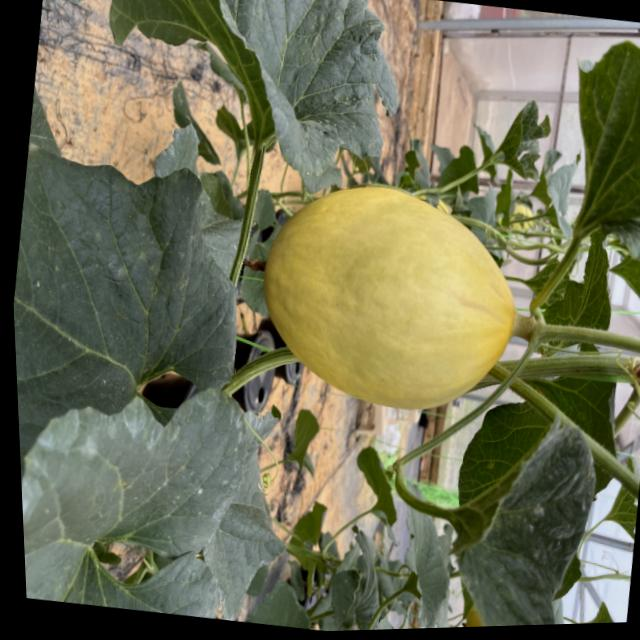downy mildew: (6, 135, 265, 501), (16, 349, 262, 626), (80, 0, 420, 188)
